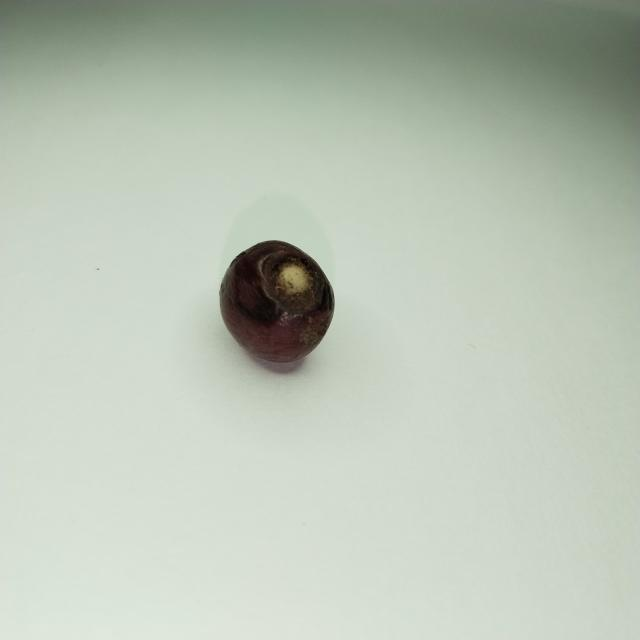Infectado: (218, 242, 335, 366)
